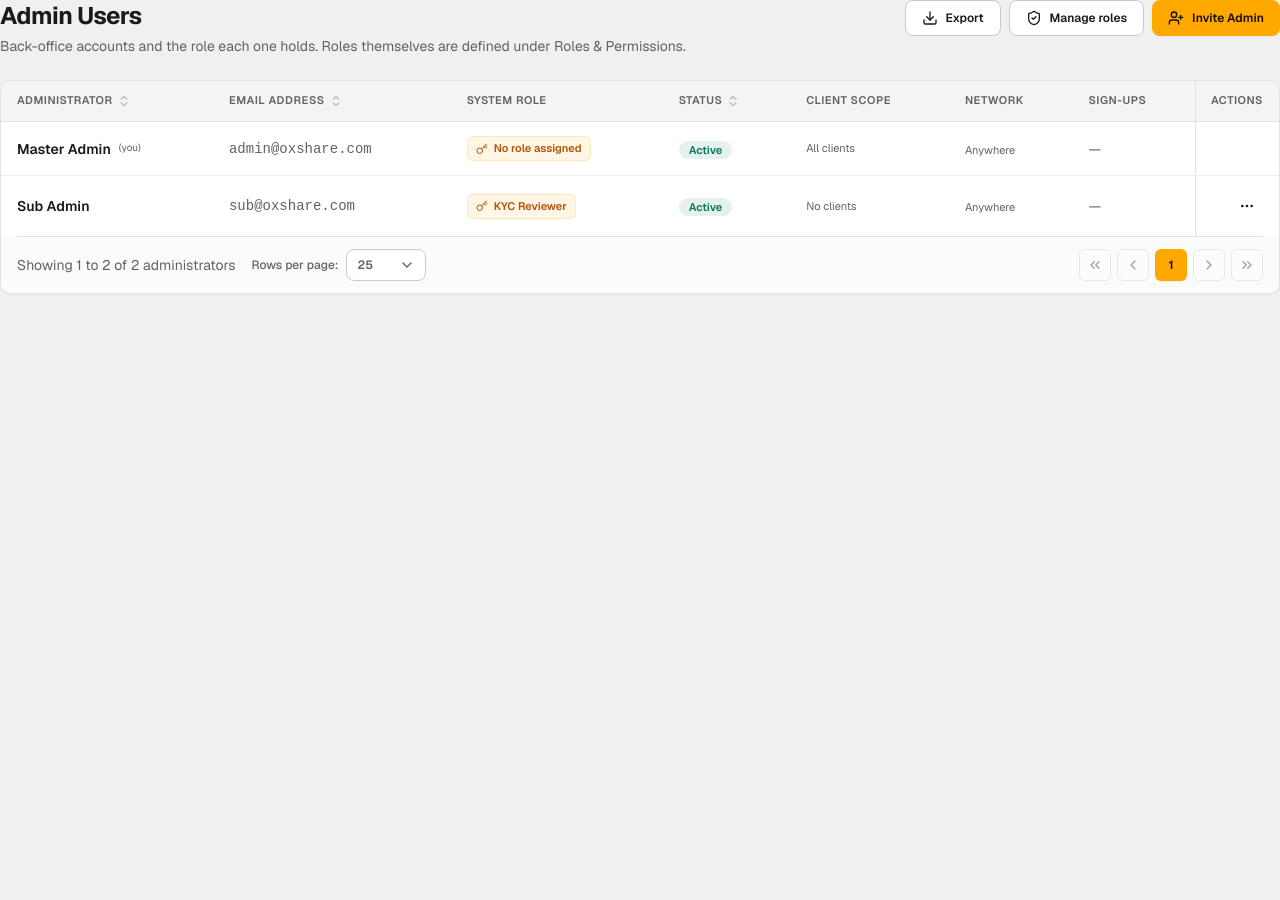
Test case: editing one administrator (FR-RBAC-02) › offers roles only — no individual-permission escape hatch
Expected: the text "sub@oxshare.com" is shown, [213,176,451,236]
Click the button named "Actions for Sub Admin".
click(1247, 206)  # box [1231,190,1263,222]
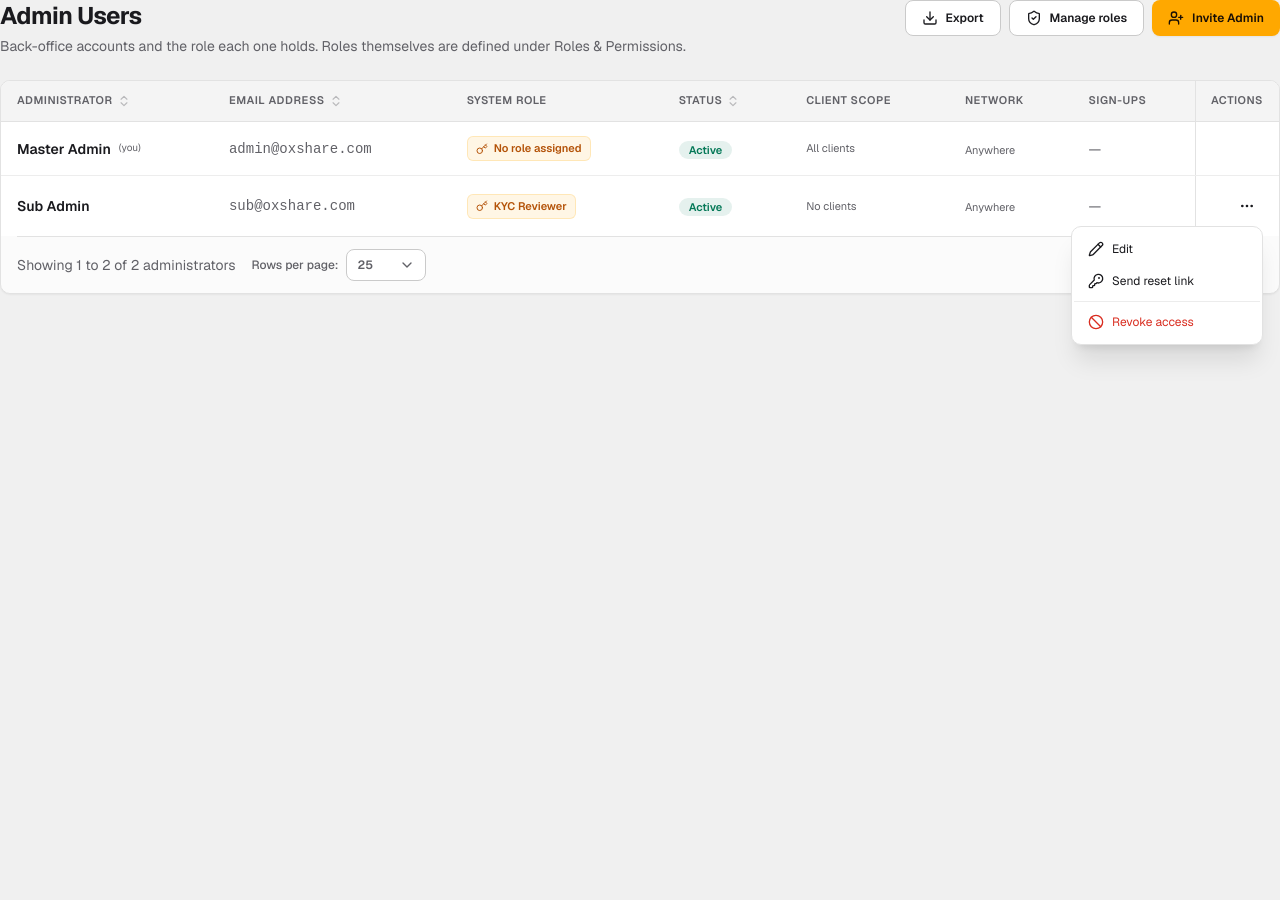
Click the menu item "Edit".
click(1111, 249)  # box [1088,241,1133,257]
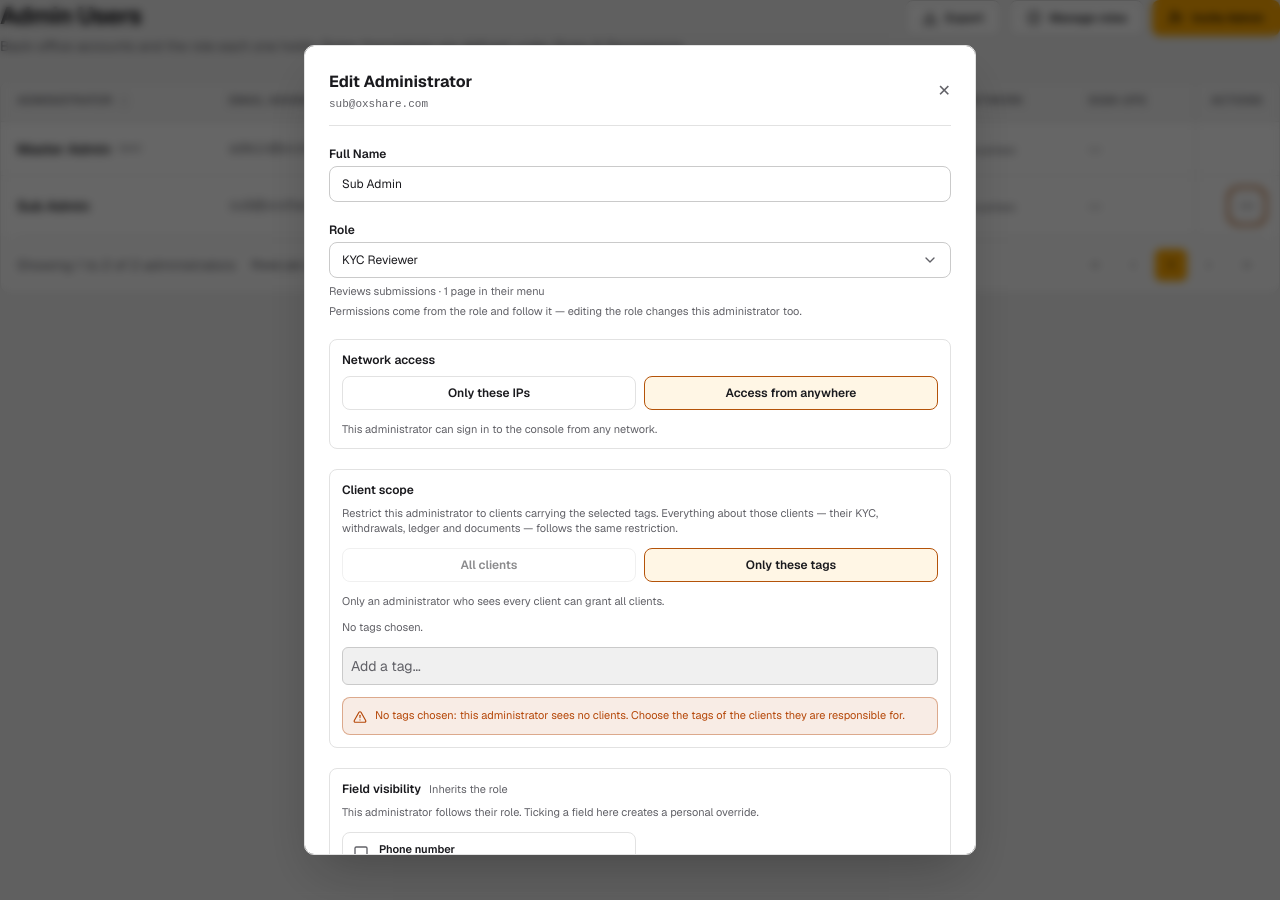
Click the dropdown named "role".
click(380, 260)  # box [329,242,951,278]
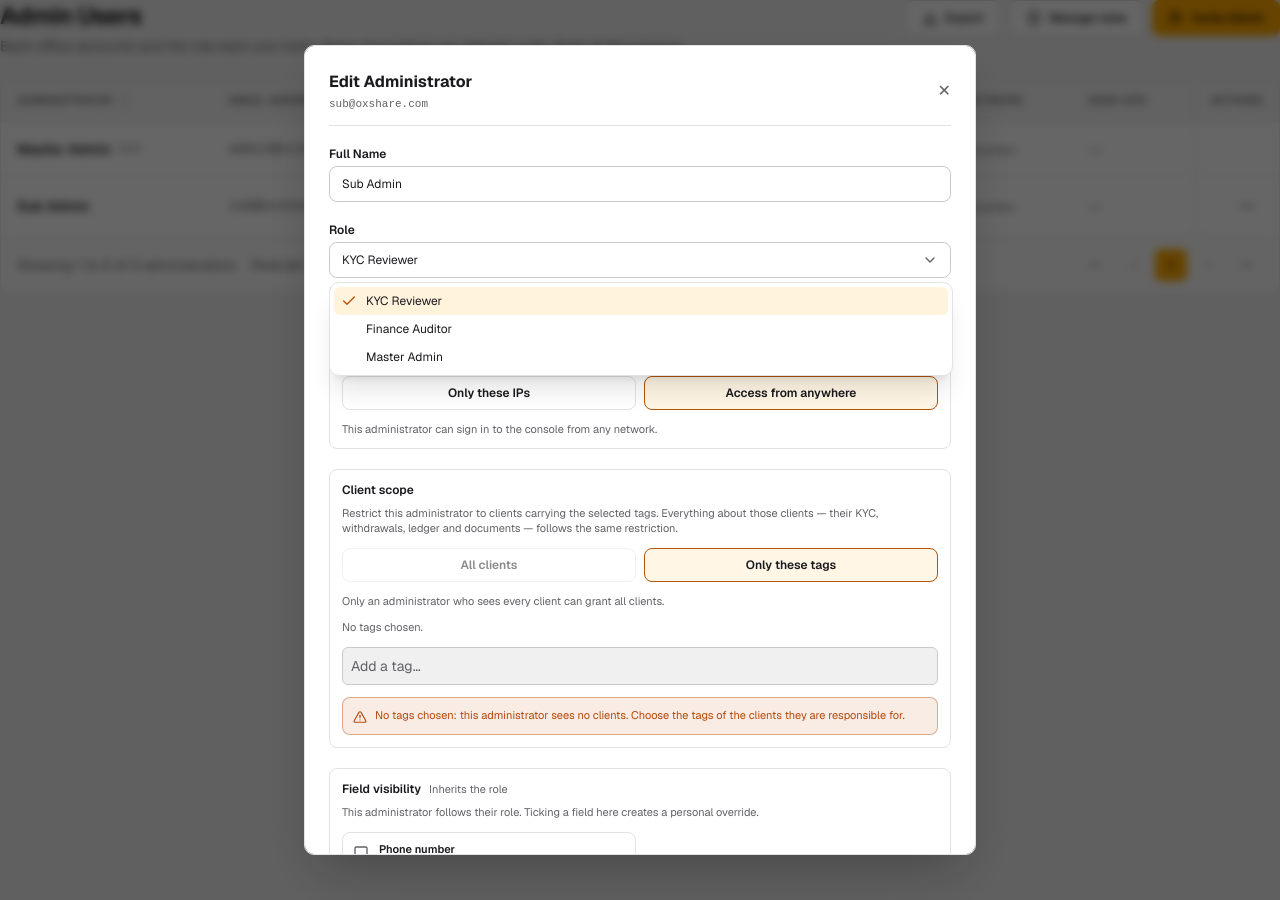
Now the option "KYC Reviewer" is shown, box [334,287,948,315]
